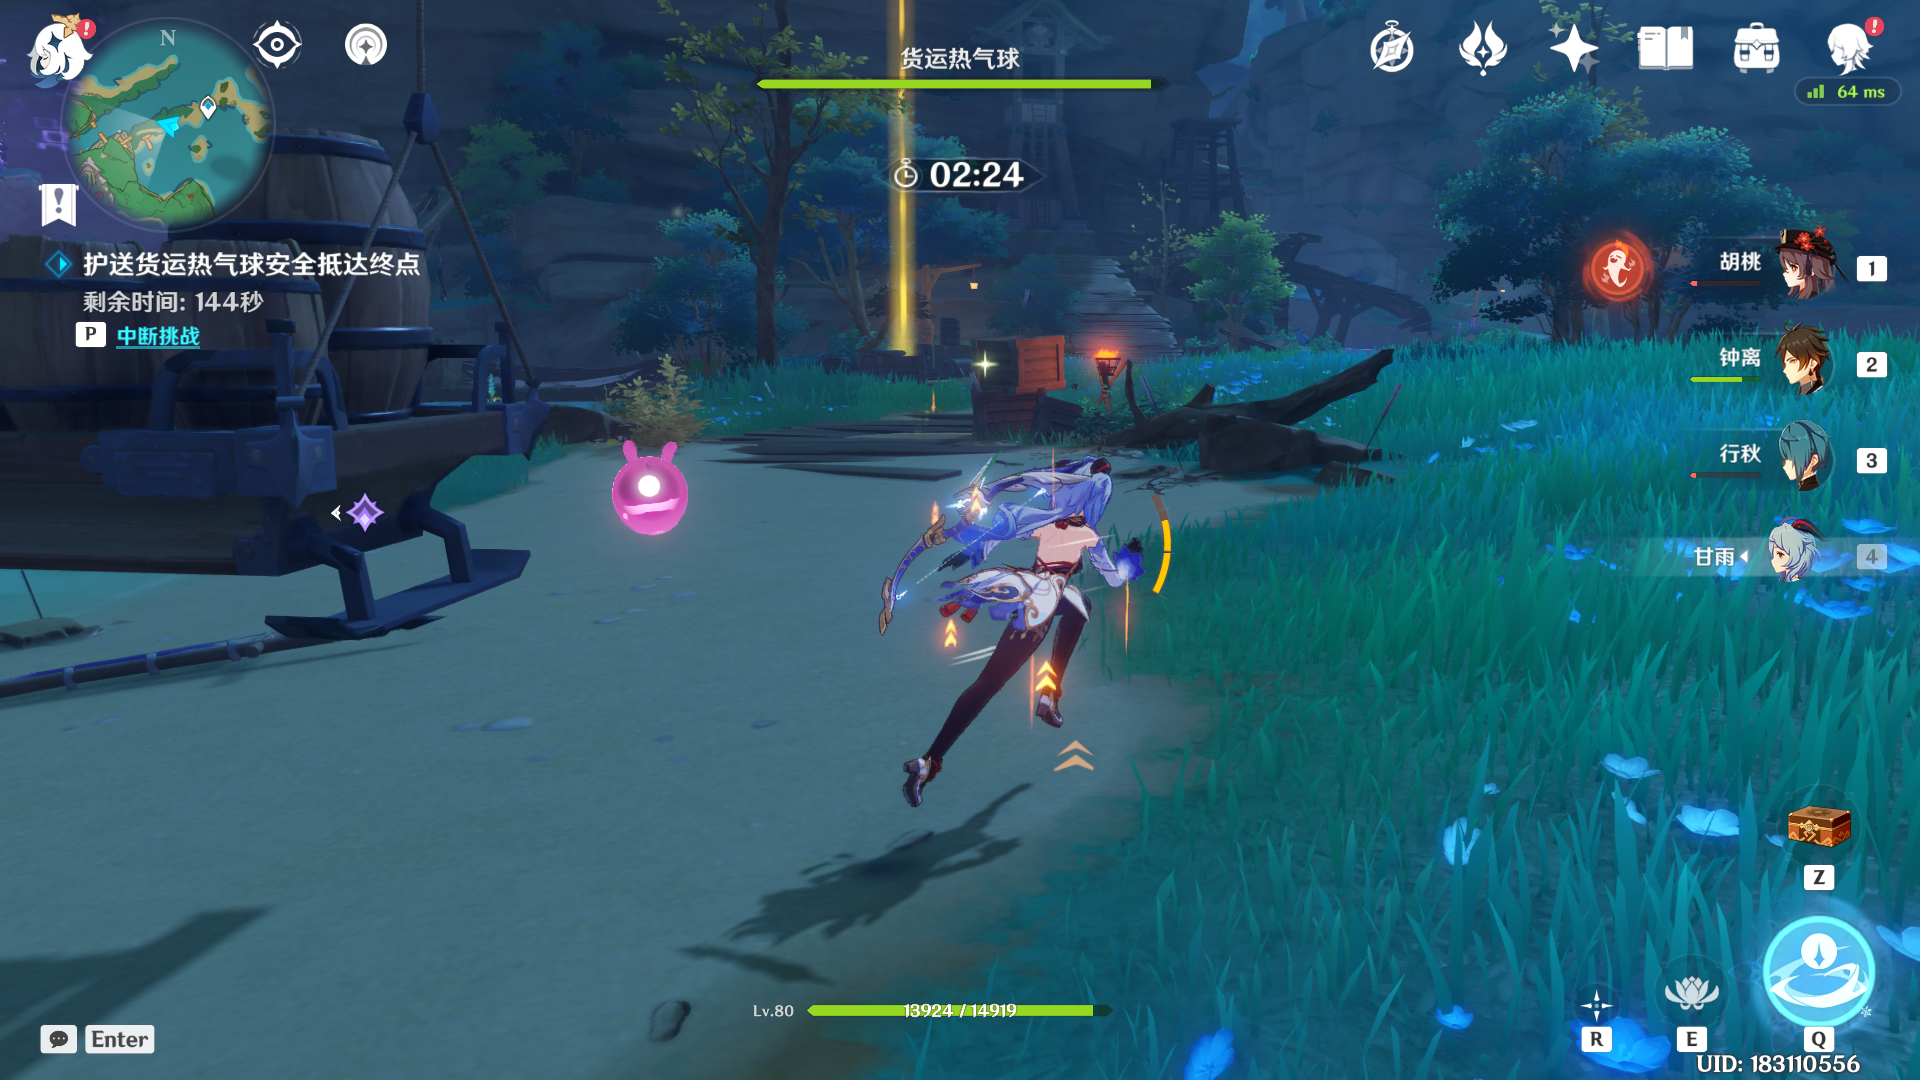character: (825, 423, 1163, 831)
